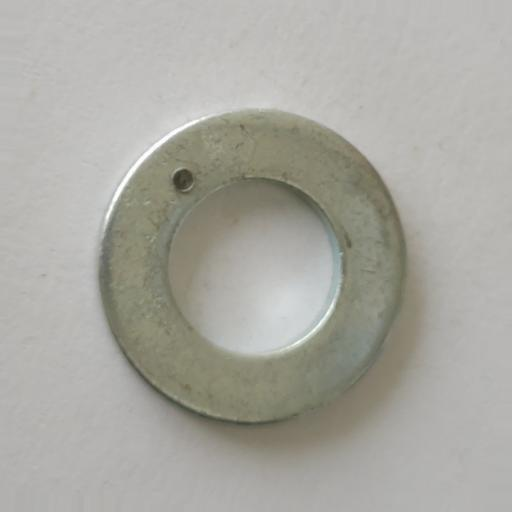circular_cavity: (172, 168, 196, 192)
